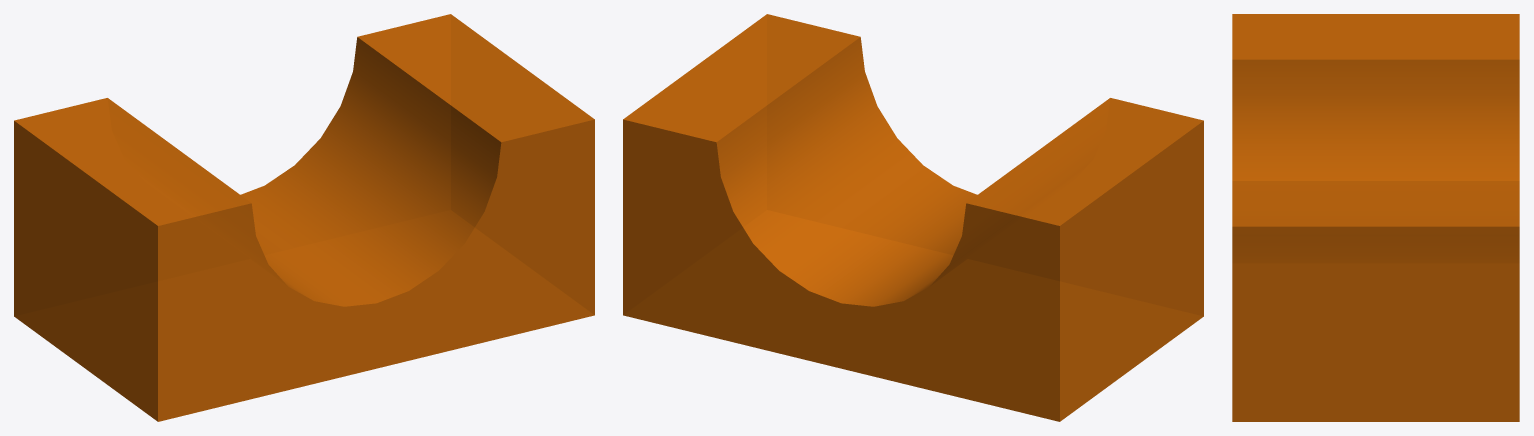
3 views of the same model, side by side, from view 1: azimuth 30°, elevation 25°; view 2: azimuth 150°, elevation 25°; view 3: azimuth 270°, elevation 25° (orthographic).
Parts seen in each view (by area): view 1: SketchUp; view 2: SketchUp; view 3: SketchUp.
Part boxes in pixels (left/top/right/bottom): SketchUp: left=14, top=14, right=594, bottom=421; SketchUp: left=623, top=14, right=1203, bottom=421; SketchUp: left=1232, top=14, right=1519, bottom=421.
Bounding box in the file's own units: 2756 × 1575 × 1181.
